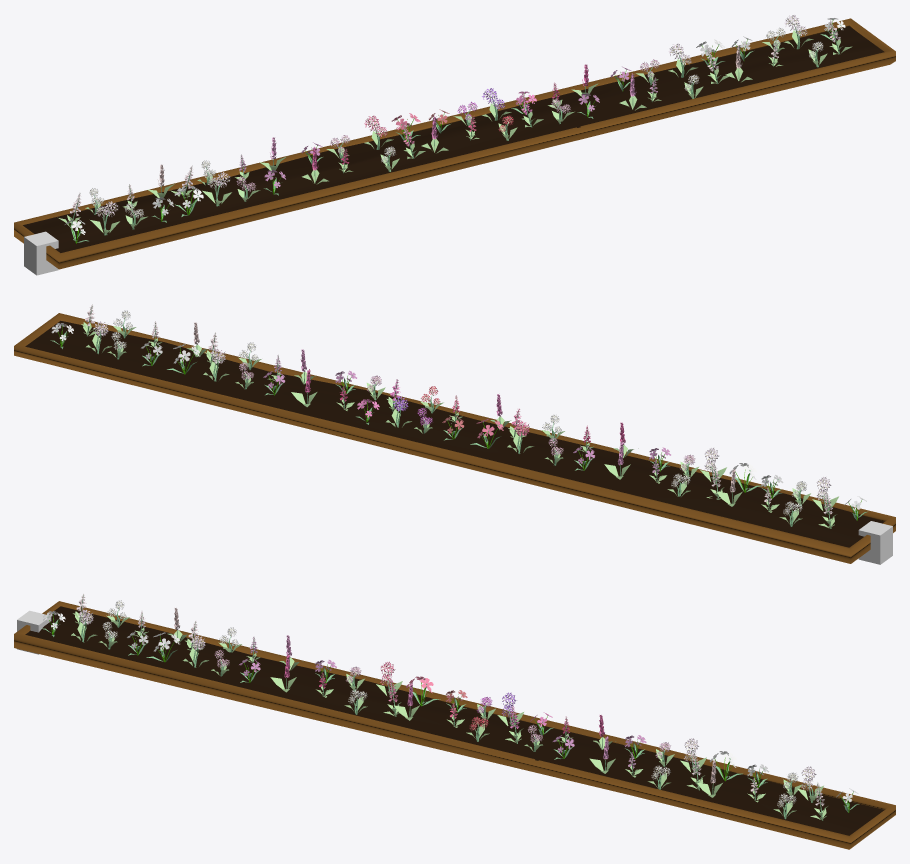
The model's file is test parterre de fleur 3.fbx.
The picture shows the model from 3 angles, top to bottom: view 1: azimuth 30°, elevation 25°; view 2: azimuth 150°, elevation 25°; view 3: azimuth 330°, elevation 25°; orthographic projection.
Parts seen in each view (by area): view 1: Plane, Cube, Cube.001; view 2: Plane, Cube, Cube.001; view 3: Plane, Cube.
Boxes of the visible parts, box(x1,y1,x2,y2) form: Plane: box(23, 26, 884, 252); Cube: box(14, 18, 895, 269); Cube.001: box(24, 231, 58, 275); Plane: box(25, 320, 884, 547); Cube: box(14, 313, 895, 563); Cube.001: box(858, 521, 892, 564); Plane: box(25, 606, 884, 835); Cube: box(14, 601, 895, 849).
Bounding box in the file's own units: 6740 × 488 × 622.
